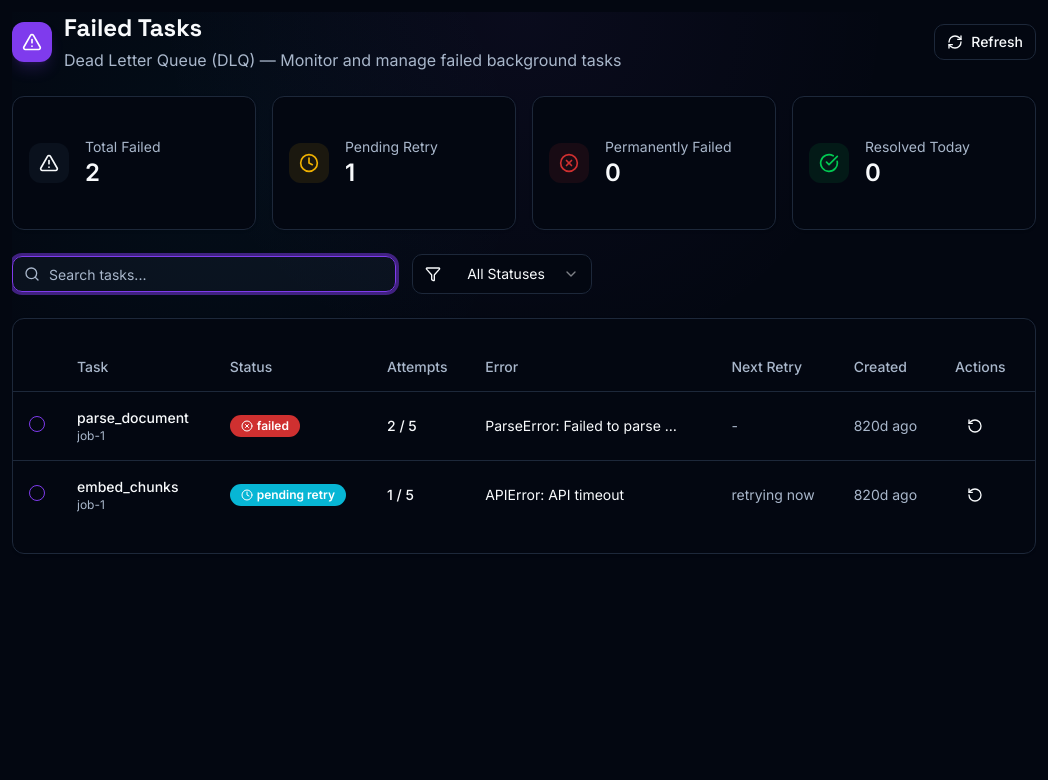
DLQ Dashboard Filtering › should filter tasks by search query
Expected: the text "parse_document" is shown, [77,408,198,428]
Expected: the text "embed_chunks" is shown, [77,478,178,494]
In the field with placeholder "Search tasks...": (204, 274) [12,256,396,292], type "parse"
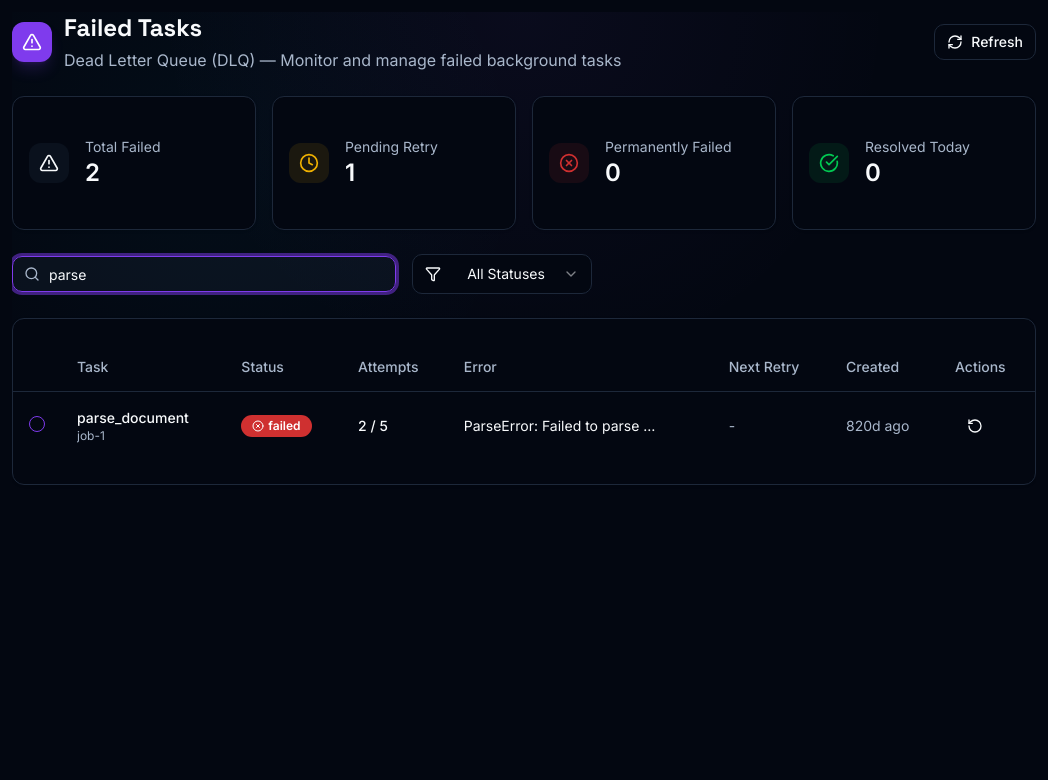
Expected: the text "parse_document" is shown, [77,408,189,426]
Expected: the text "embed_chunks" is gone
